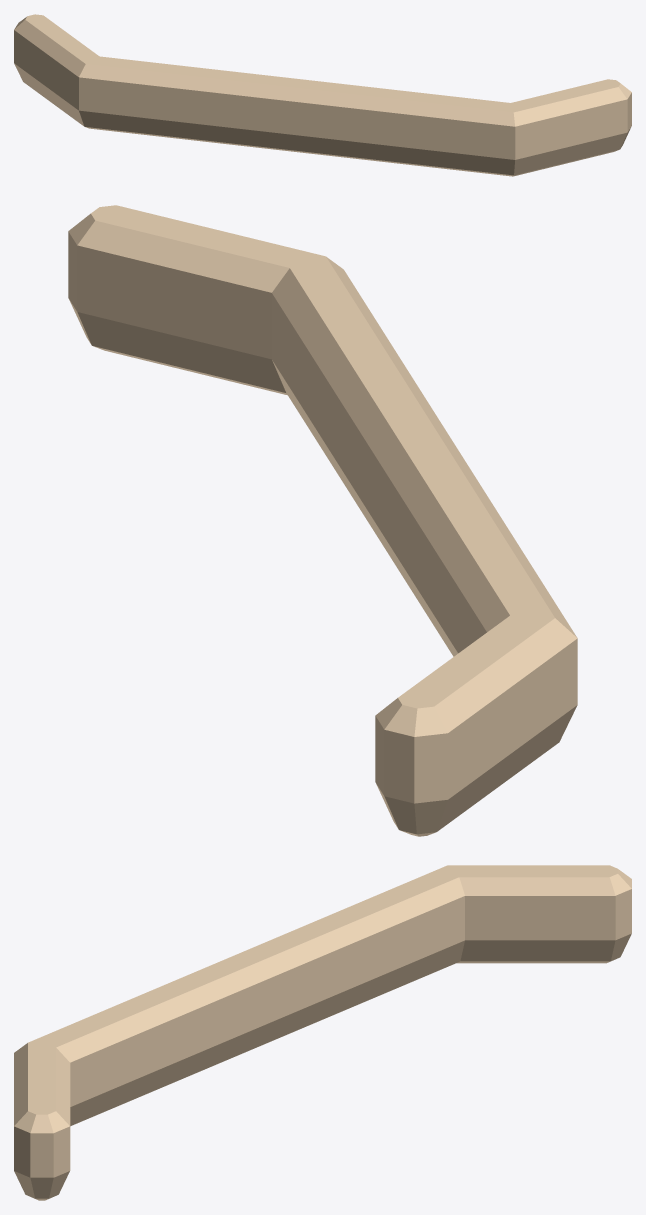
The model's file is temple_Balcony_Base_Tower.glb.
3 renders of one model, top to bottom at view 1: azimuth 30°, elevation 25°; view 2: azimuth 150°, elevation 25°; view 3: azimuth 270°, elevation 25°, orthographic. The views are drawn at different scales.
Parts seen in each view (by area): view 1: object1; view 2: object1; view 3: object1.
Part boxes in pixels (x1,y1,x2,y2): object1: [14, 14, 631, 176]; object1: [68, 205, 577, 836]; object1: [14, 865, 631, 1200].
Size of the model in its own units: 2.2 by 0.35 by 2.2.
